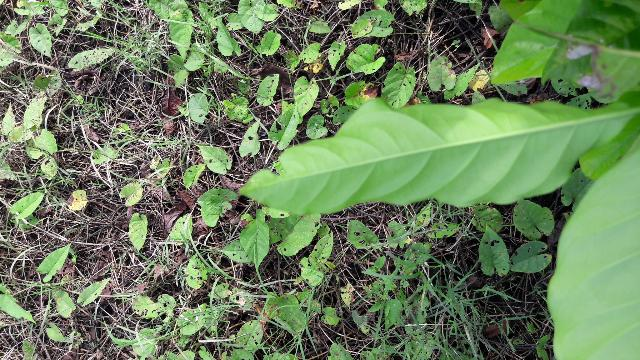healthy: (227, 94, 636, 217)
